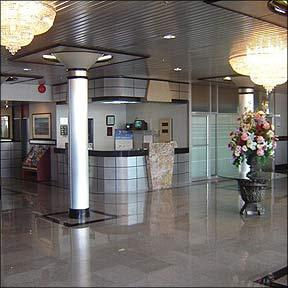Matera: (226, 107, 273, 217)
